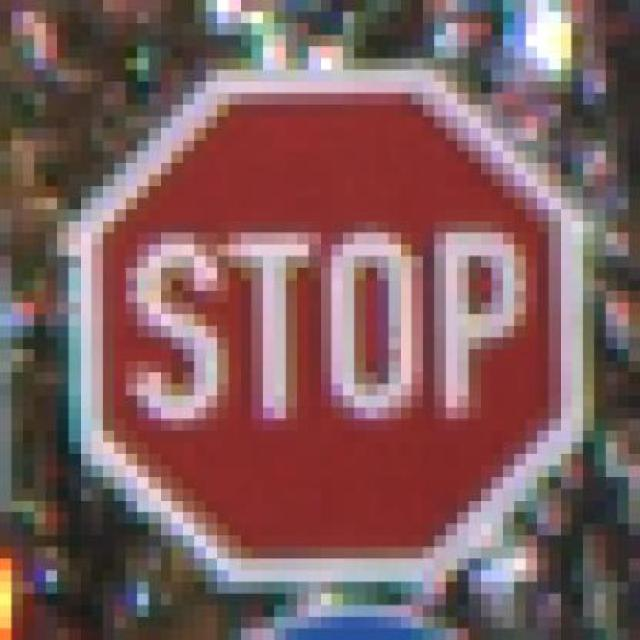Stop_Sign: (22, 58, 618, 594)
